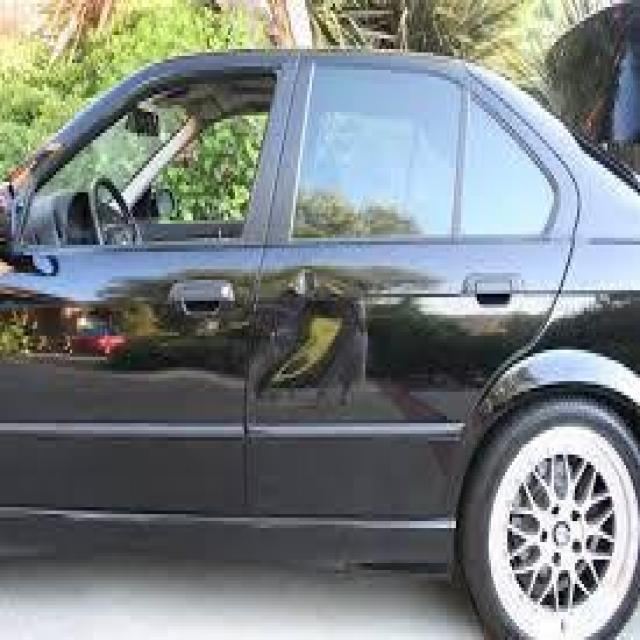damaged: (251, 269, 368, 416)
